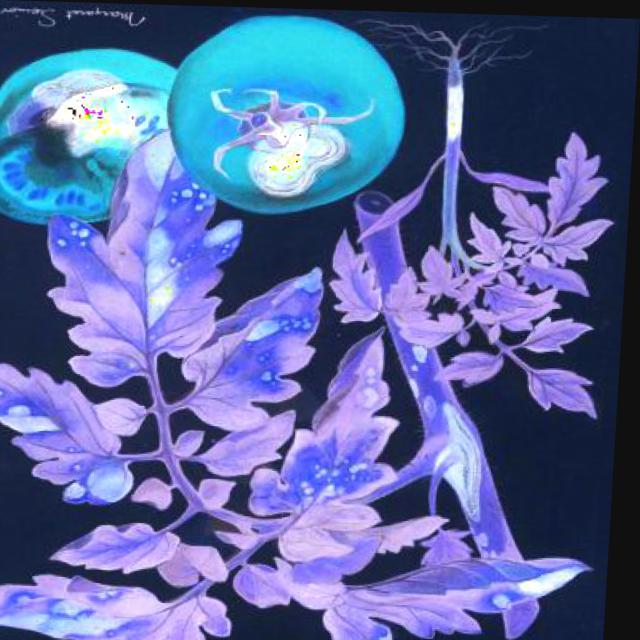Tomato Early blight leaf: (25, 126, 218, 381), (332, 536, 600, 639), (0, 354, 165, 518), (284, 333, 408, 544), (190, 269, 329, 429), (0, 575, 228, 639)
